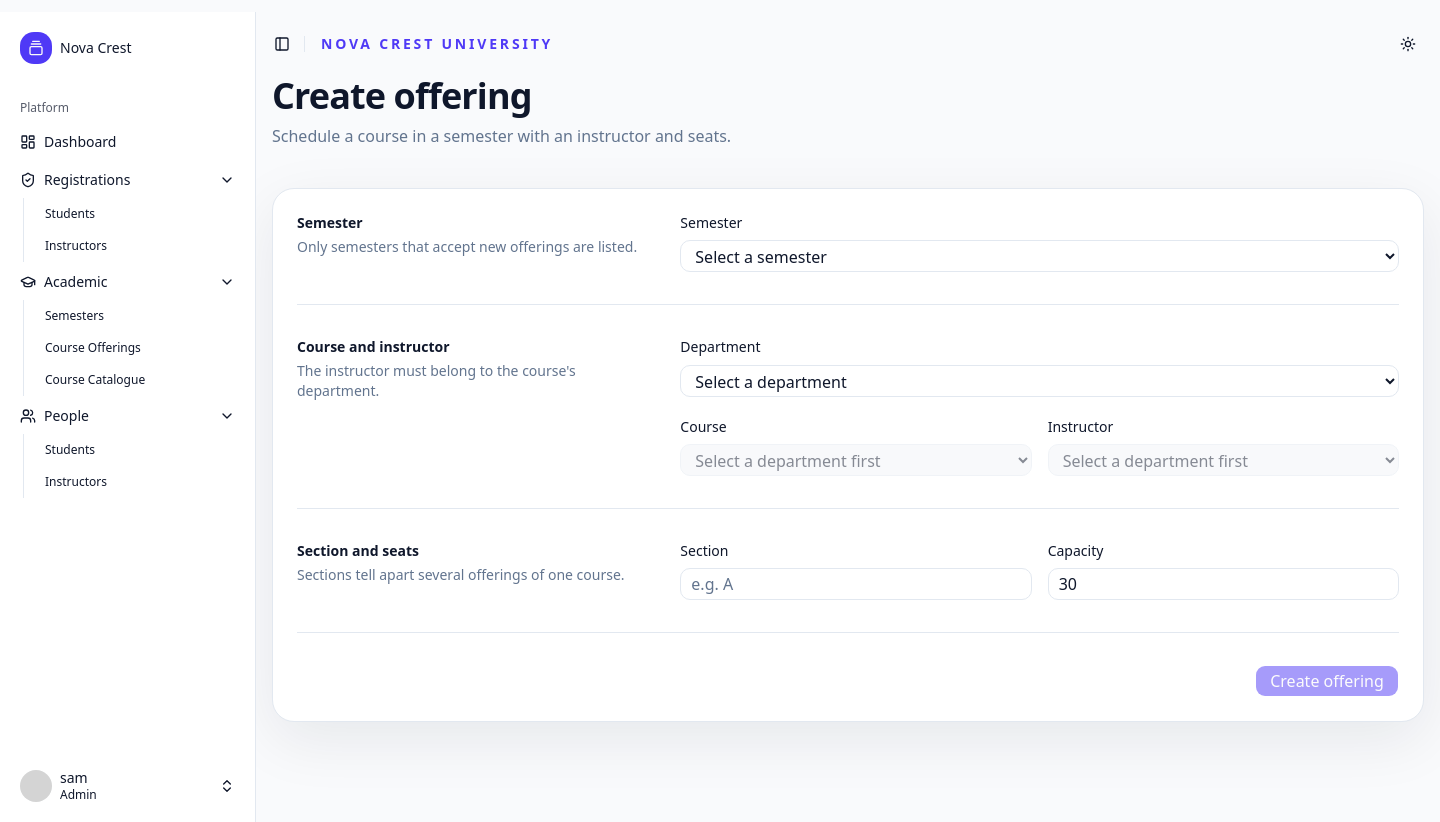
Scenario: CreateOfferingForm › keeps course and instructor locked until a department is chosen, then loads that department
expect the dropdown labelled "Course" is disabled: met, box top-left (680, 444), bottom-right (1032, 476)
Select "Physics" in the dropdown labelled "Department" at (1040, 380), box top-left (680, 364), bottom-right (1399, 396)
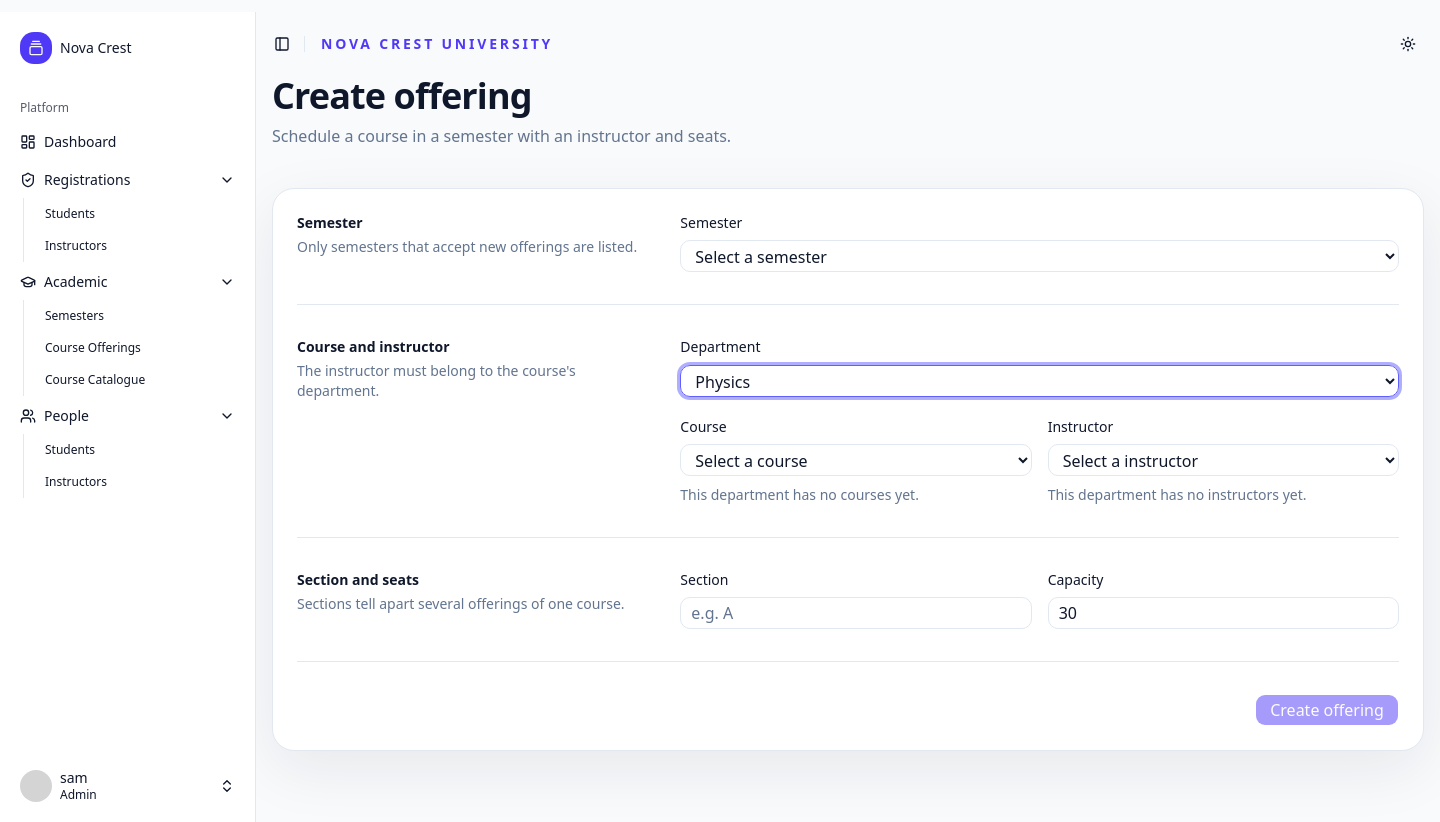
expect the text "This department has no courses yet." is shown: met, box top-left (680, 485), bottom-right (919, 504)
expect the text "This department has no instructors yet." is shown: met, box top-left (1048, 485), bottom-right (1306, 504)
